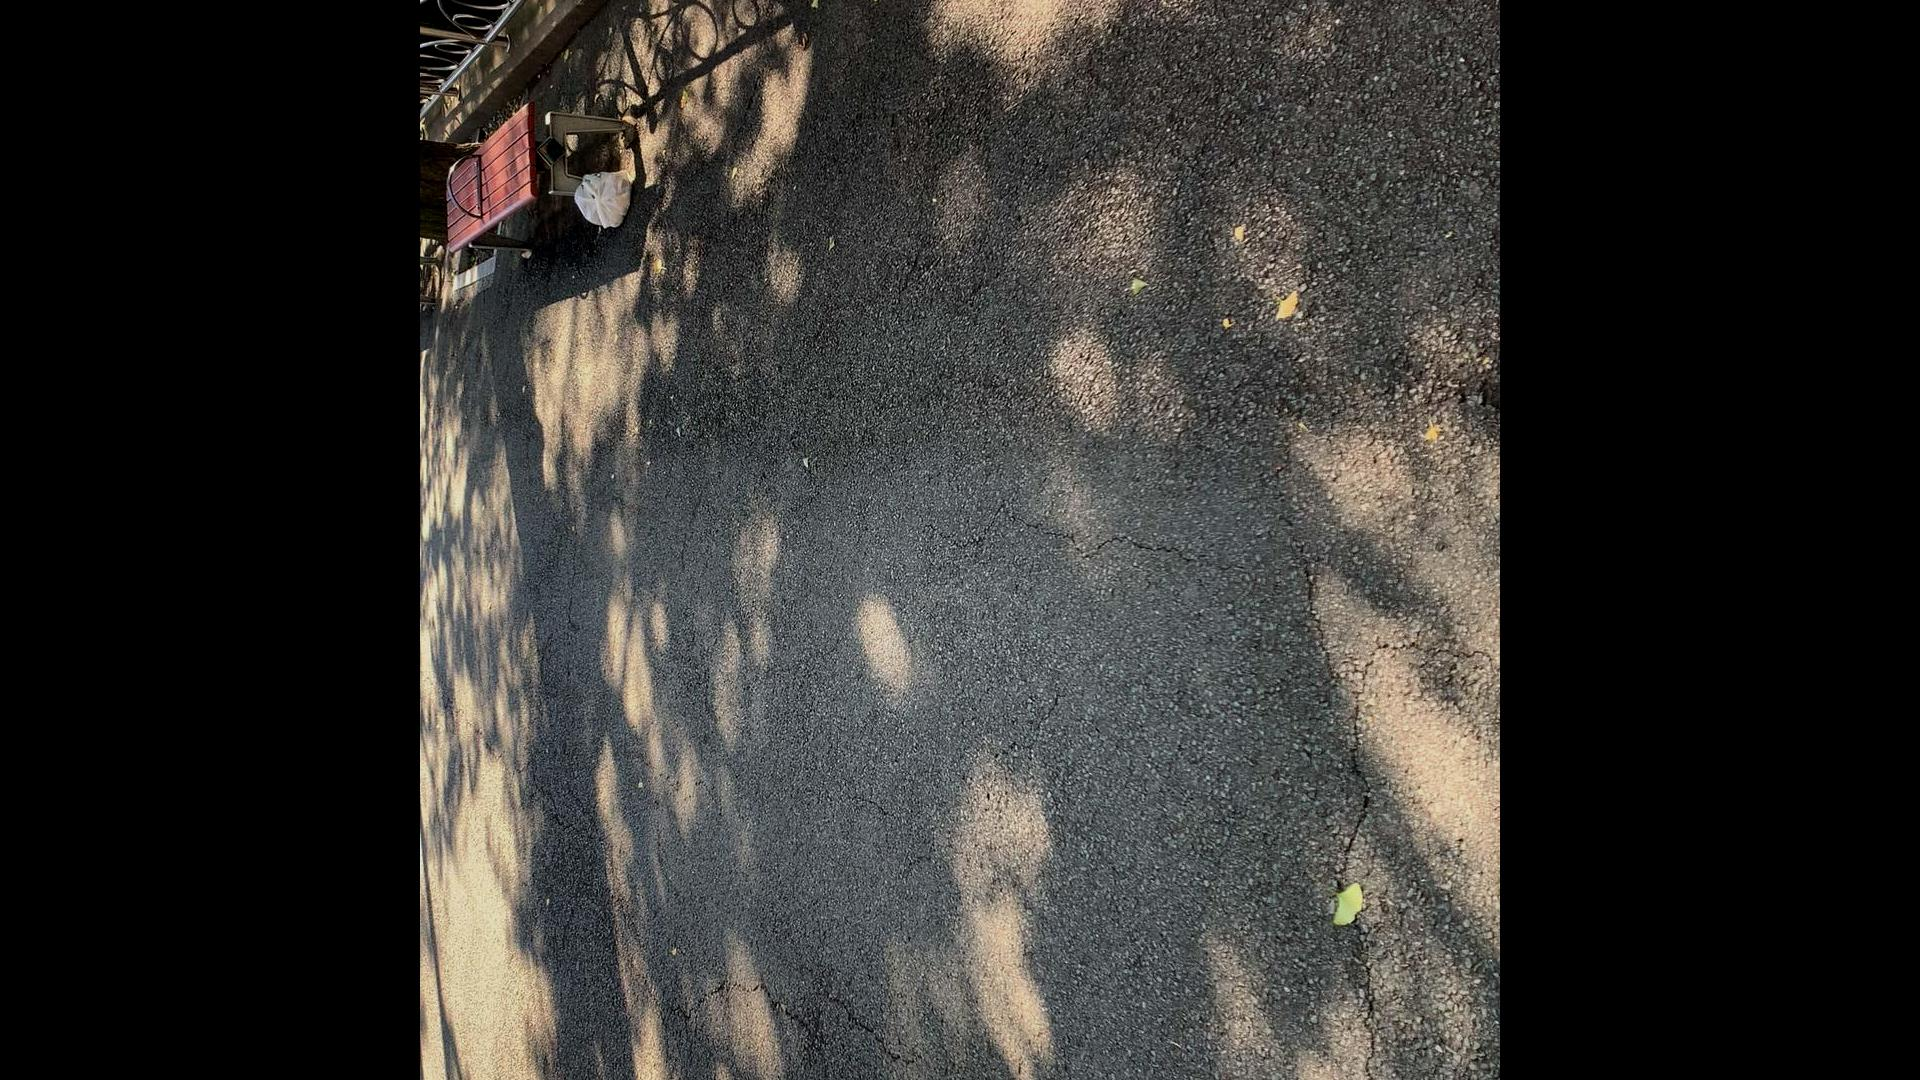white_bag: (570, 164, 636, 236)
